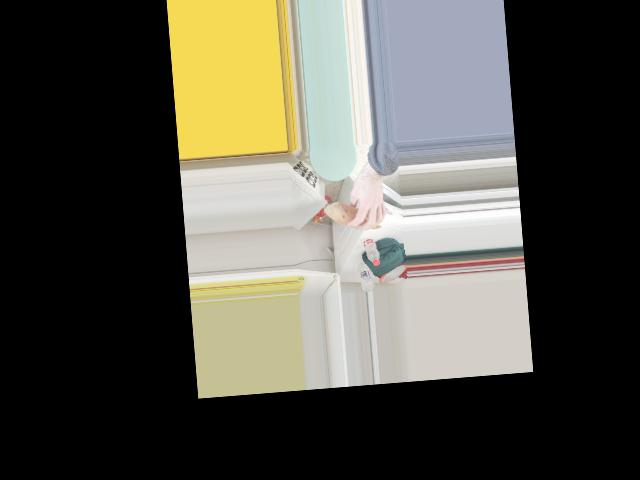sweet_potato: (328, 203, 383, 232)
